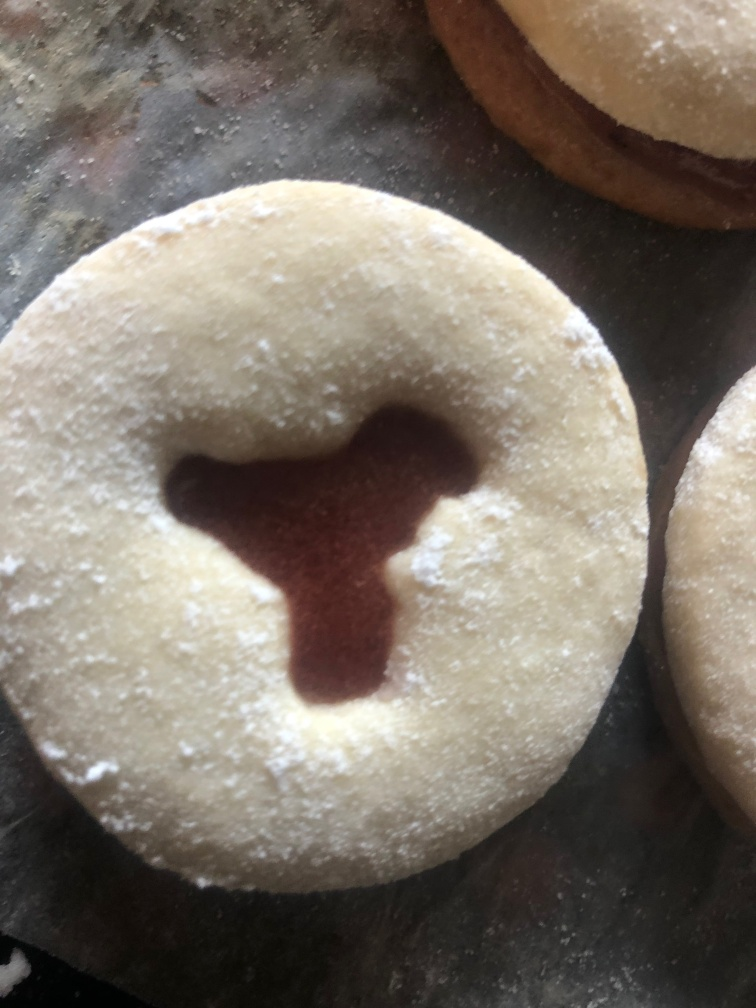christmas shortbread with jam: (1, 169, 647, 899)
